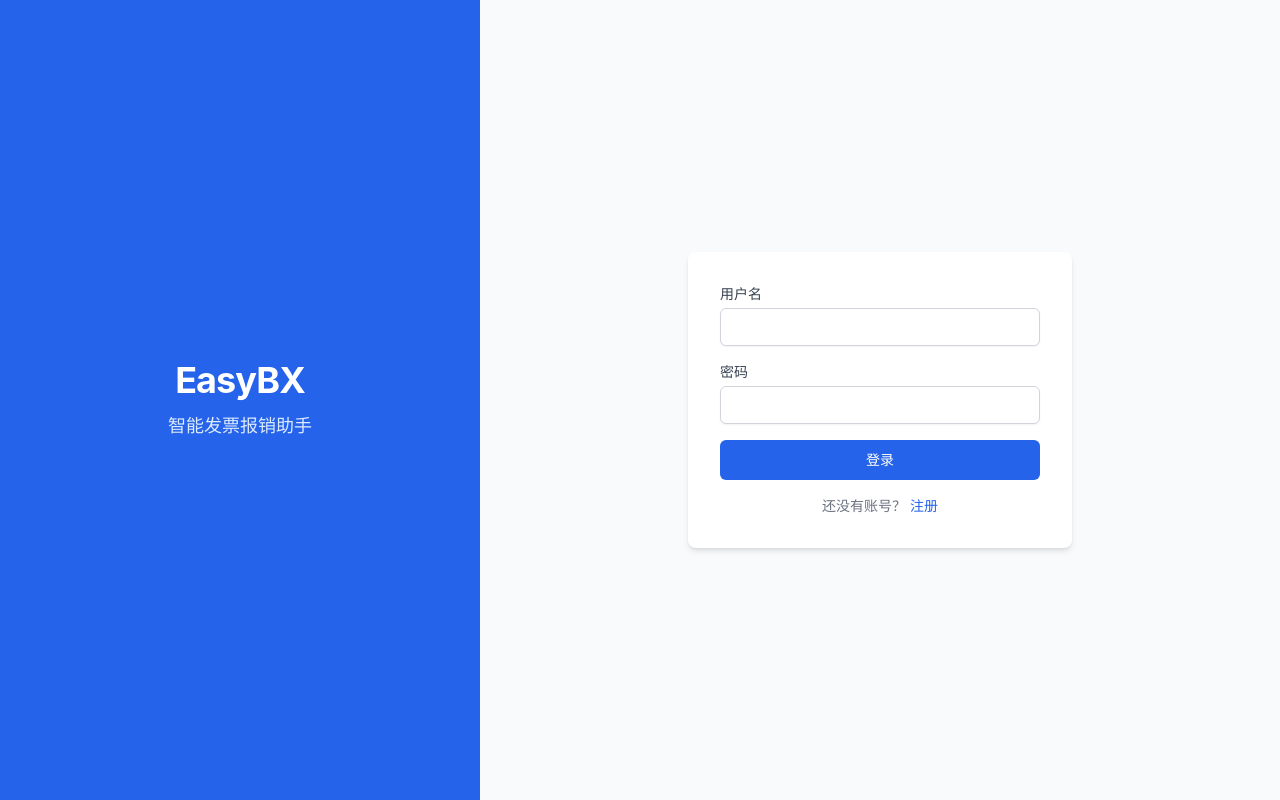
Test: LoginPage frontend validation › shows error on password input when password is empty and does not send request
In the field labelled "用户名": (880, 327) x1=720 y1=308 x2=1040 y2=346, type "testuser"
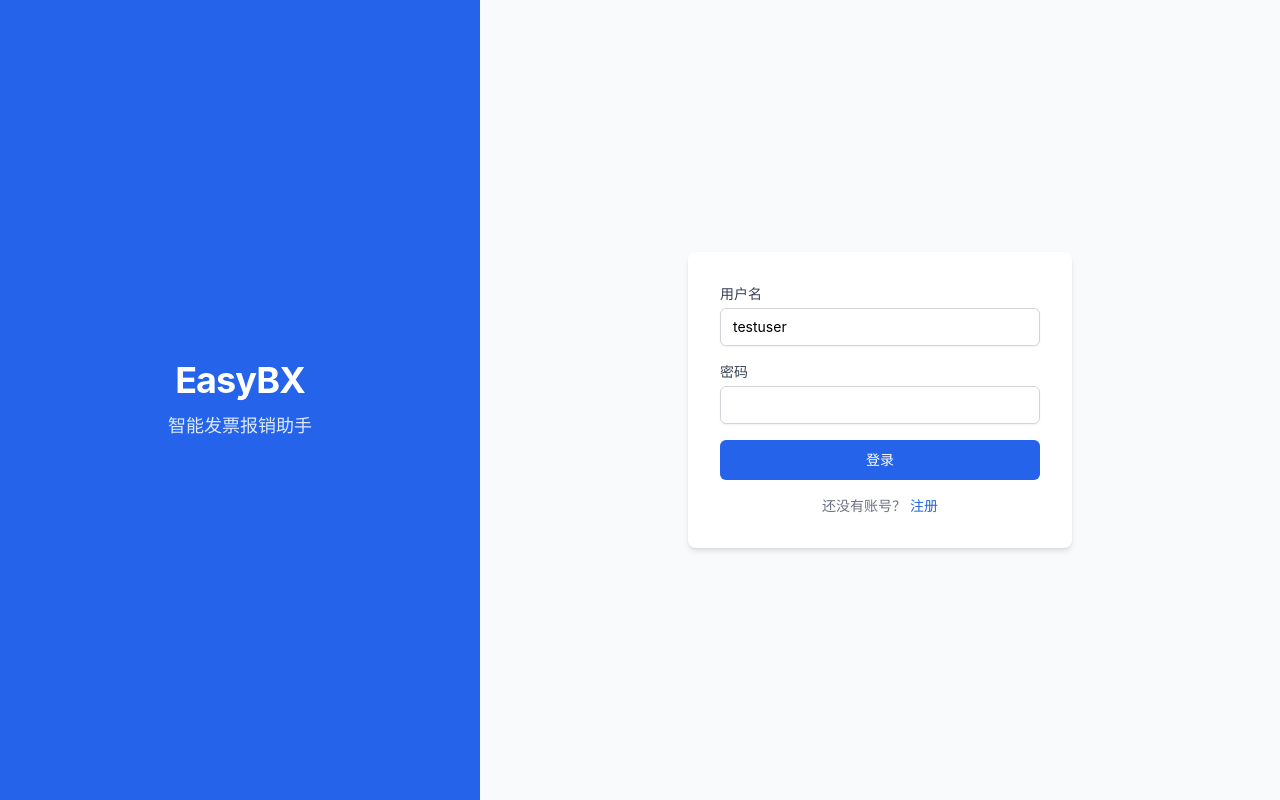
Click the button "登录": (880, 460) x1=720 y1=440 x2=1040 y2=480
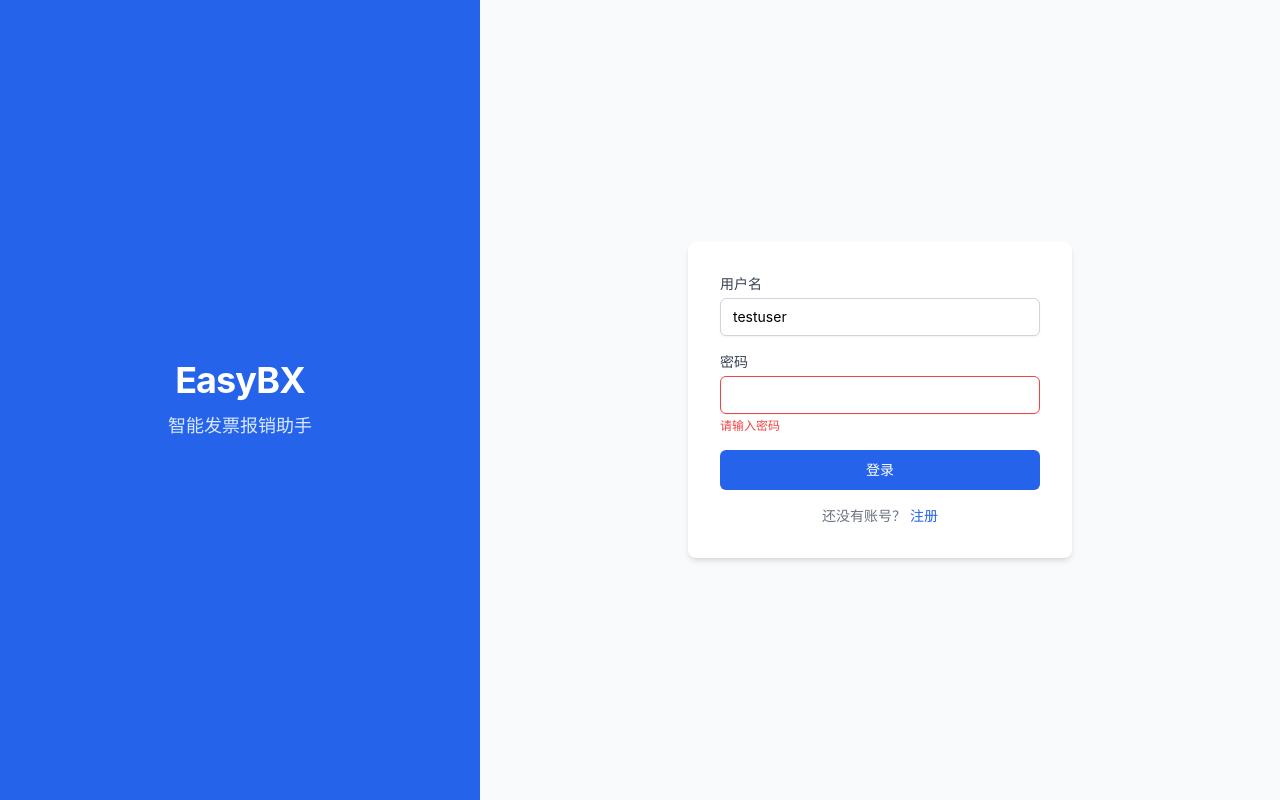
Now the text "请输入密码" is shown, box x1=720 y1=418 x2=780 y2=433
